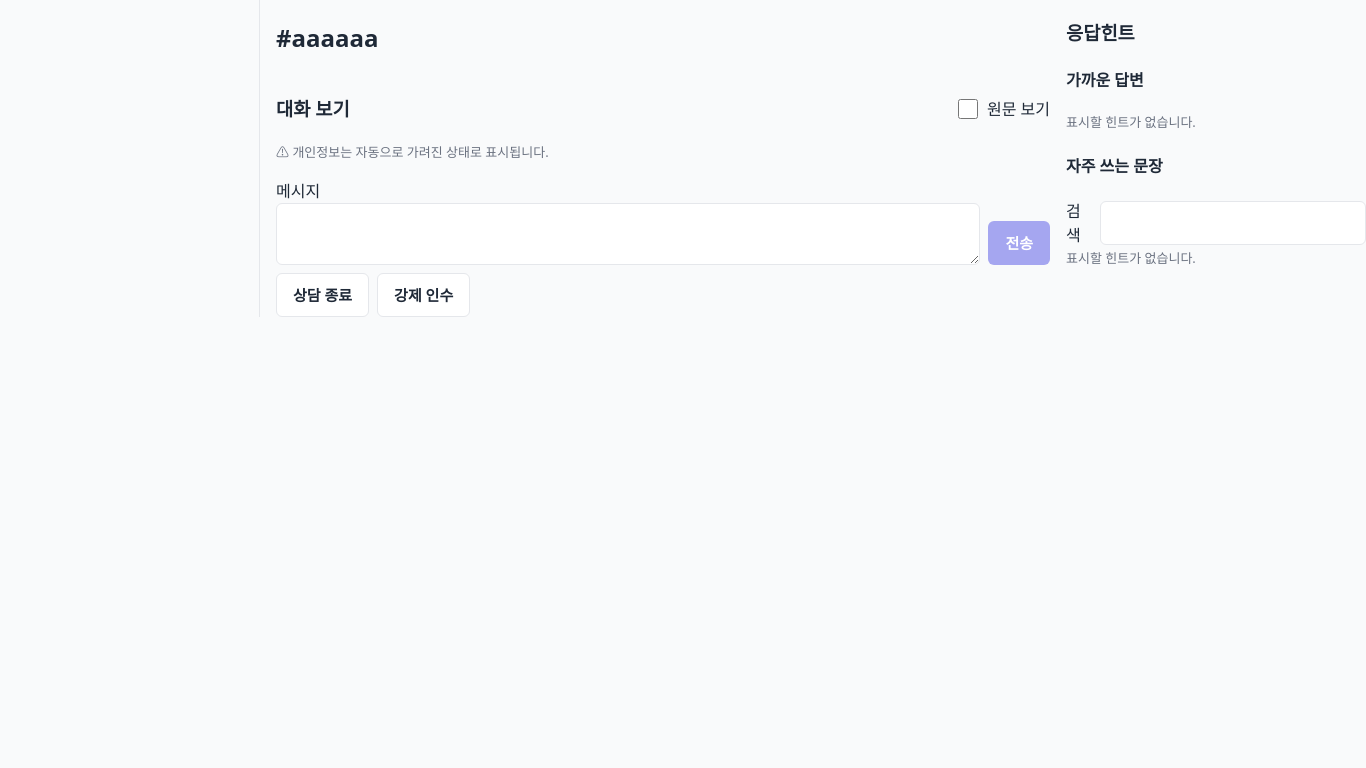
Test case: LiveSessionDetailPage — 종료 확인 미리보기(endButtonLabel, M-2) › 개입·인수를 하지 않고 폴링만으로 CONNECTED 상태를 받아도 종료 확인에 버튼 라벨 미리보기가 채워진다
The image size is (1366, 768).
Click the button "상담 종료" at (323, 295), box [276, 273, 369, 317]
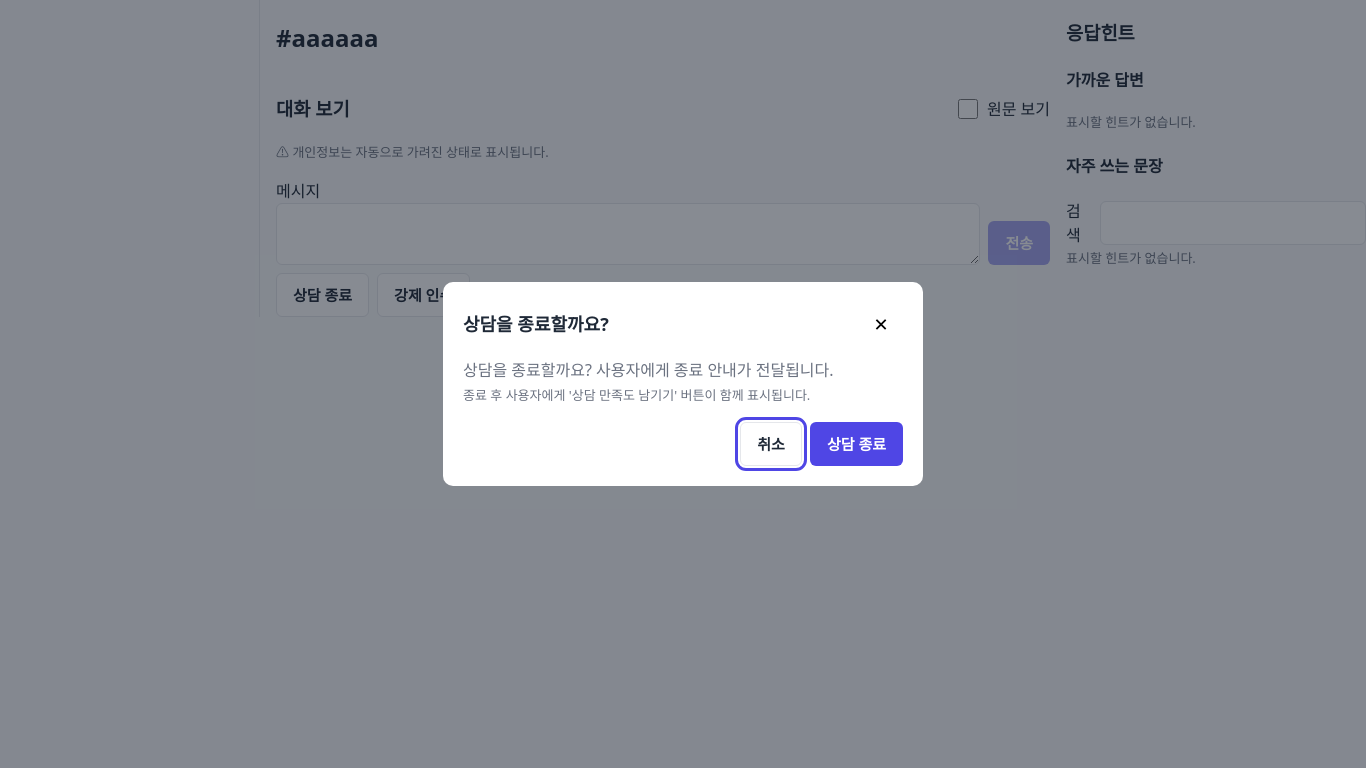
expect the text "종료 후 사용자에게 '상담 만족도 남기기' 버튼이 함께 표시됩니다." is shown: met, box [463, 386, 810, 404]
